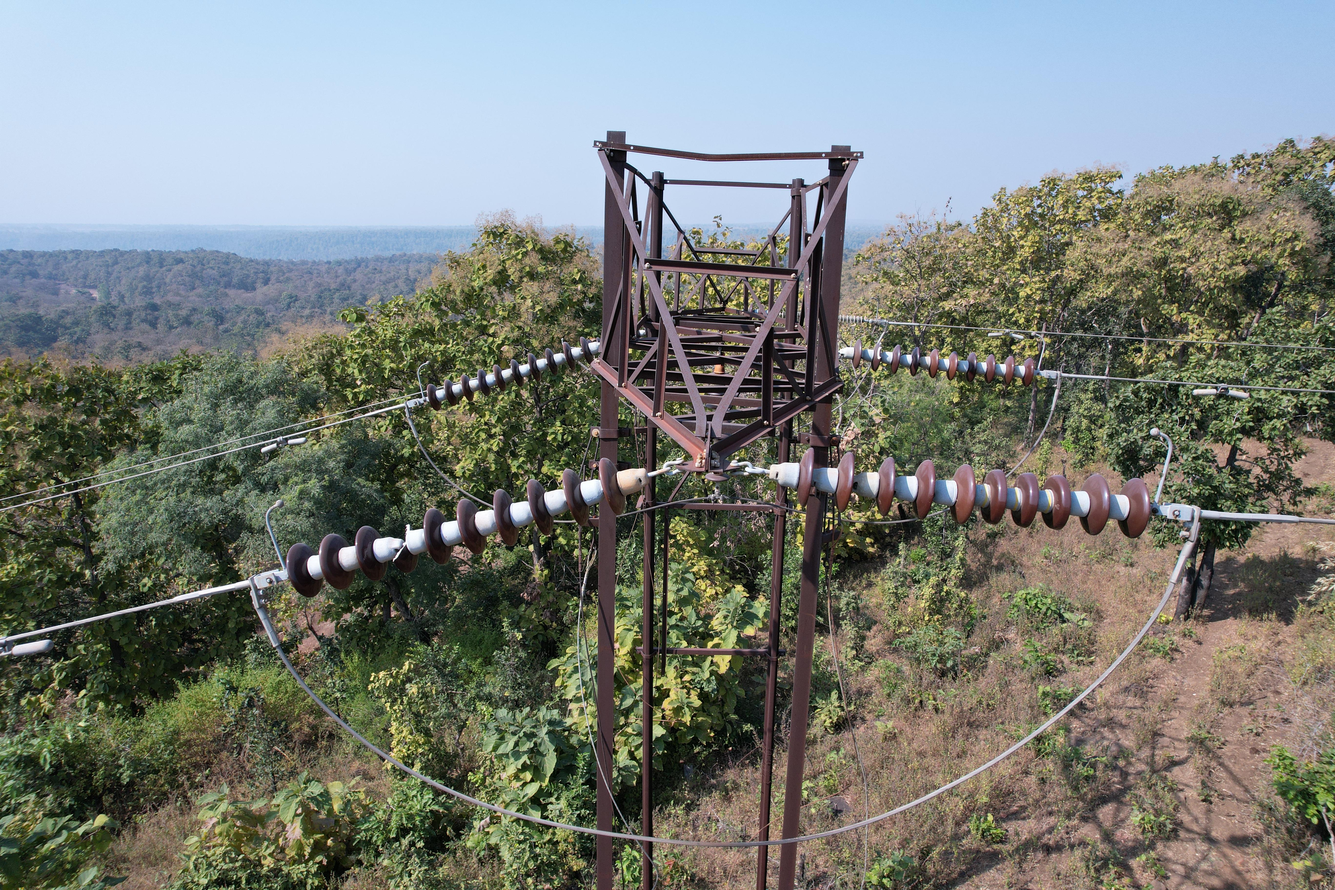broken_insulator: (391, 522, 418, 574), (871, 342, 883, 371)
